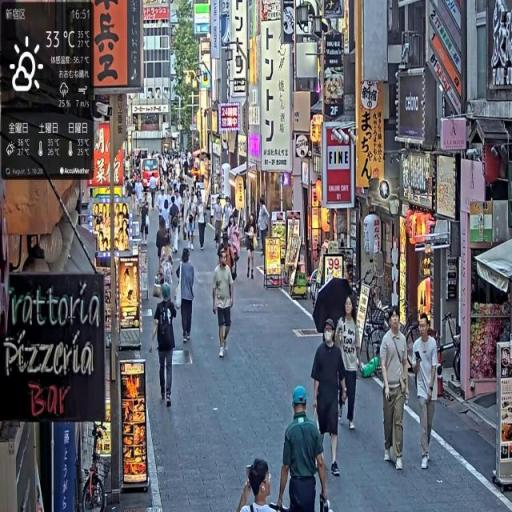person: (276, 385, 331, 512), (312, 319, 348, 482), (381, 307, 412, 474), (411, 313, 442, 473), (335, 299, 363, 433), (151, 282, 180, 407), (213, 246, 236, 361), (178, 248, 197, 345), (228, 217, 242, 284), (245, 215, 258, 280), (257, 199, 270, 257), (170, 196, 181, 257), (198, 196, 209, 252)
